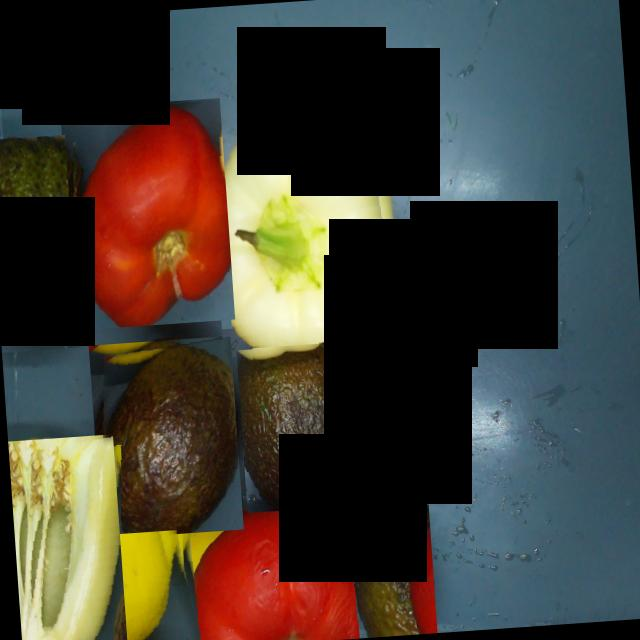avocado: (89, 335, 244, 538), (236, 340, 374, 512), (0, 134, 79, 352), (350, 504, 437, 638)
lemon: (113, 528, 200, 640)
pepper: (207, 107, 402, 358), (8, 433, 128, 640)
tomatoes: (59, 97, 234, 330), (179, 487, 379, 640)
